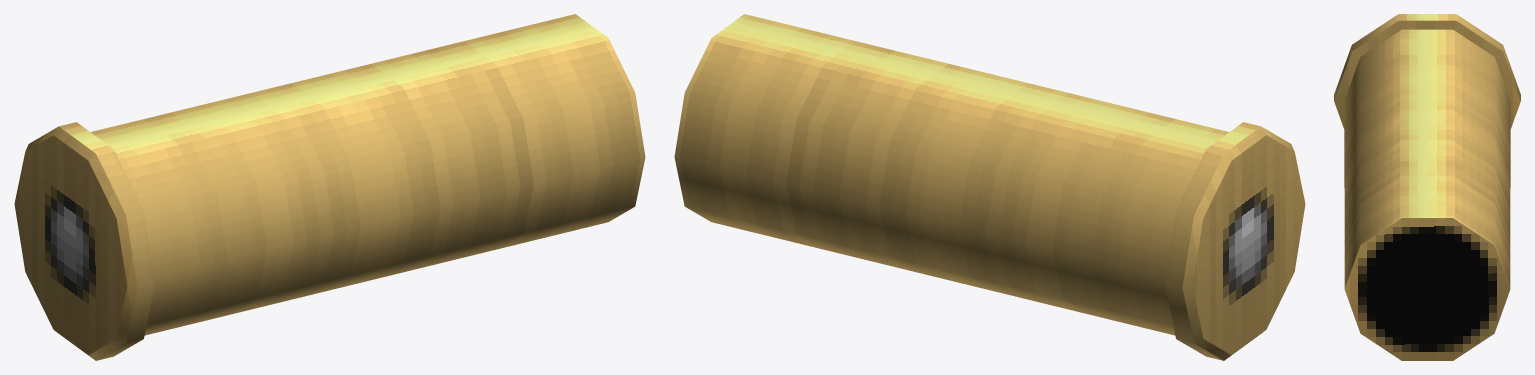
Rendered from ammomaker_CasingStraightMRim.fbx.
3 views of the same model, side by side, from view 1: azimuth 30°, elevation 25°; view 2: azimuth 150°, elevation 25°; view 3: azimuth 270°, elevation 25° (orthographic). The views are drawn at different scales.
Parts seen in each view (by area): view 1: ammomaker_CasingStraightMRim; view 2: ammomaker_CasingStraightMRim; view 3: ammomaker_CasingStraightMRim.
Part boxes in pixels (box(x1,y1,x2,y2)): ammomaker_CasingStraightMRim: box(14, 14, 645, 360); ammomaker_CasingStraightMRim: box(674, 14, 1305, 360); ammomaker_CasingStraightMRim: box(1334, 14, 1520, 360).
Bounding box in the file's own units: 3.26 × 1.24 × 1.31.
